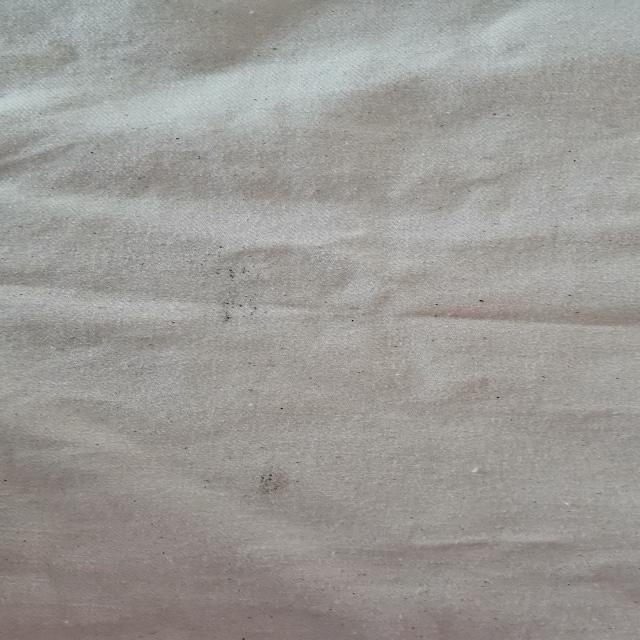taaaches: (191, 266, 277, 336), (232, 456, 308, 509)
